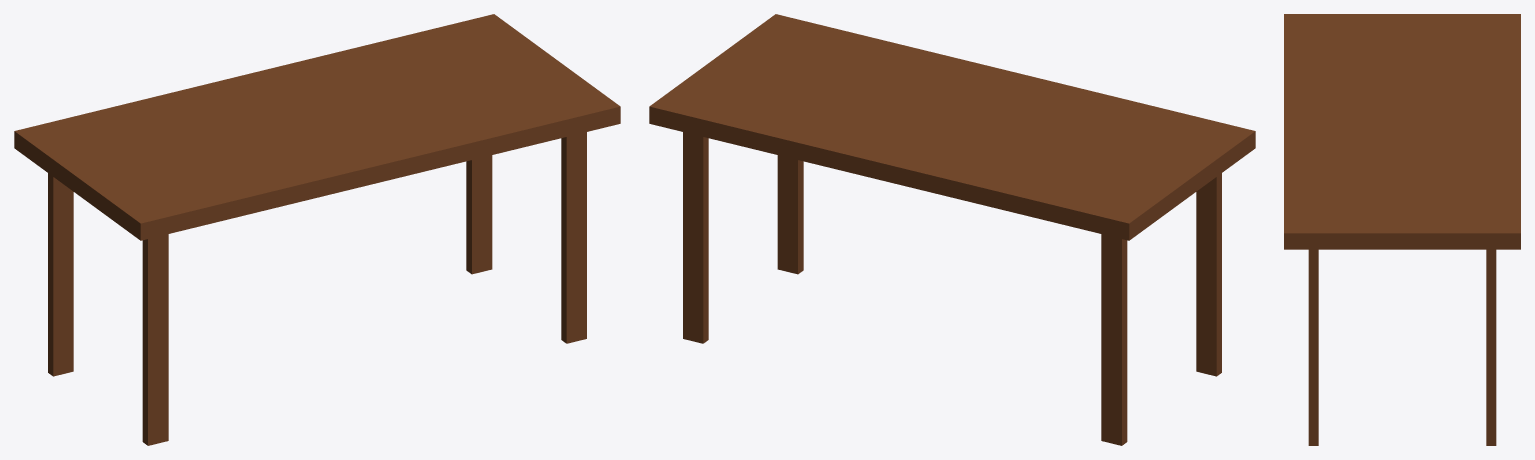
File: Table.fbx
3 renders of one model, left to right at view 1: azimuth 30°, elevation 25°; view 2: azimuth 150°, elevation 25°; view 3: azimuth 270°, elevation 25°, orthographic. The views are drawn at different scales.
Parts seen in each view (by area): view 1: Group1; view 2: Group1; view 3: Group1.
Part boxes in pixels (x1=…): Group1: x1=14, y1=14, x2=620, y2=445; Group1: x1=649, y1=14, x2=1255, y2=445; Group1: x1=1284, y1=14, x2=1520, y2=445.
Size of the model in its own units: 14.57 by 6.88 by 6.65.
